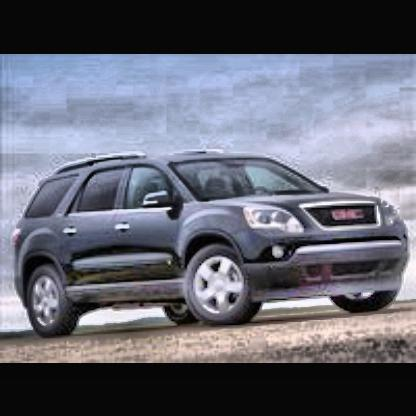GMC Acadia SUV 2012: (16, 149, 407, 361)
